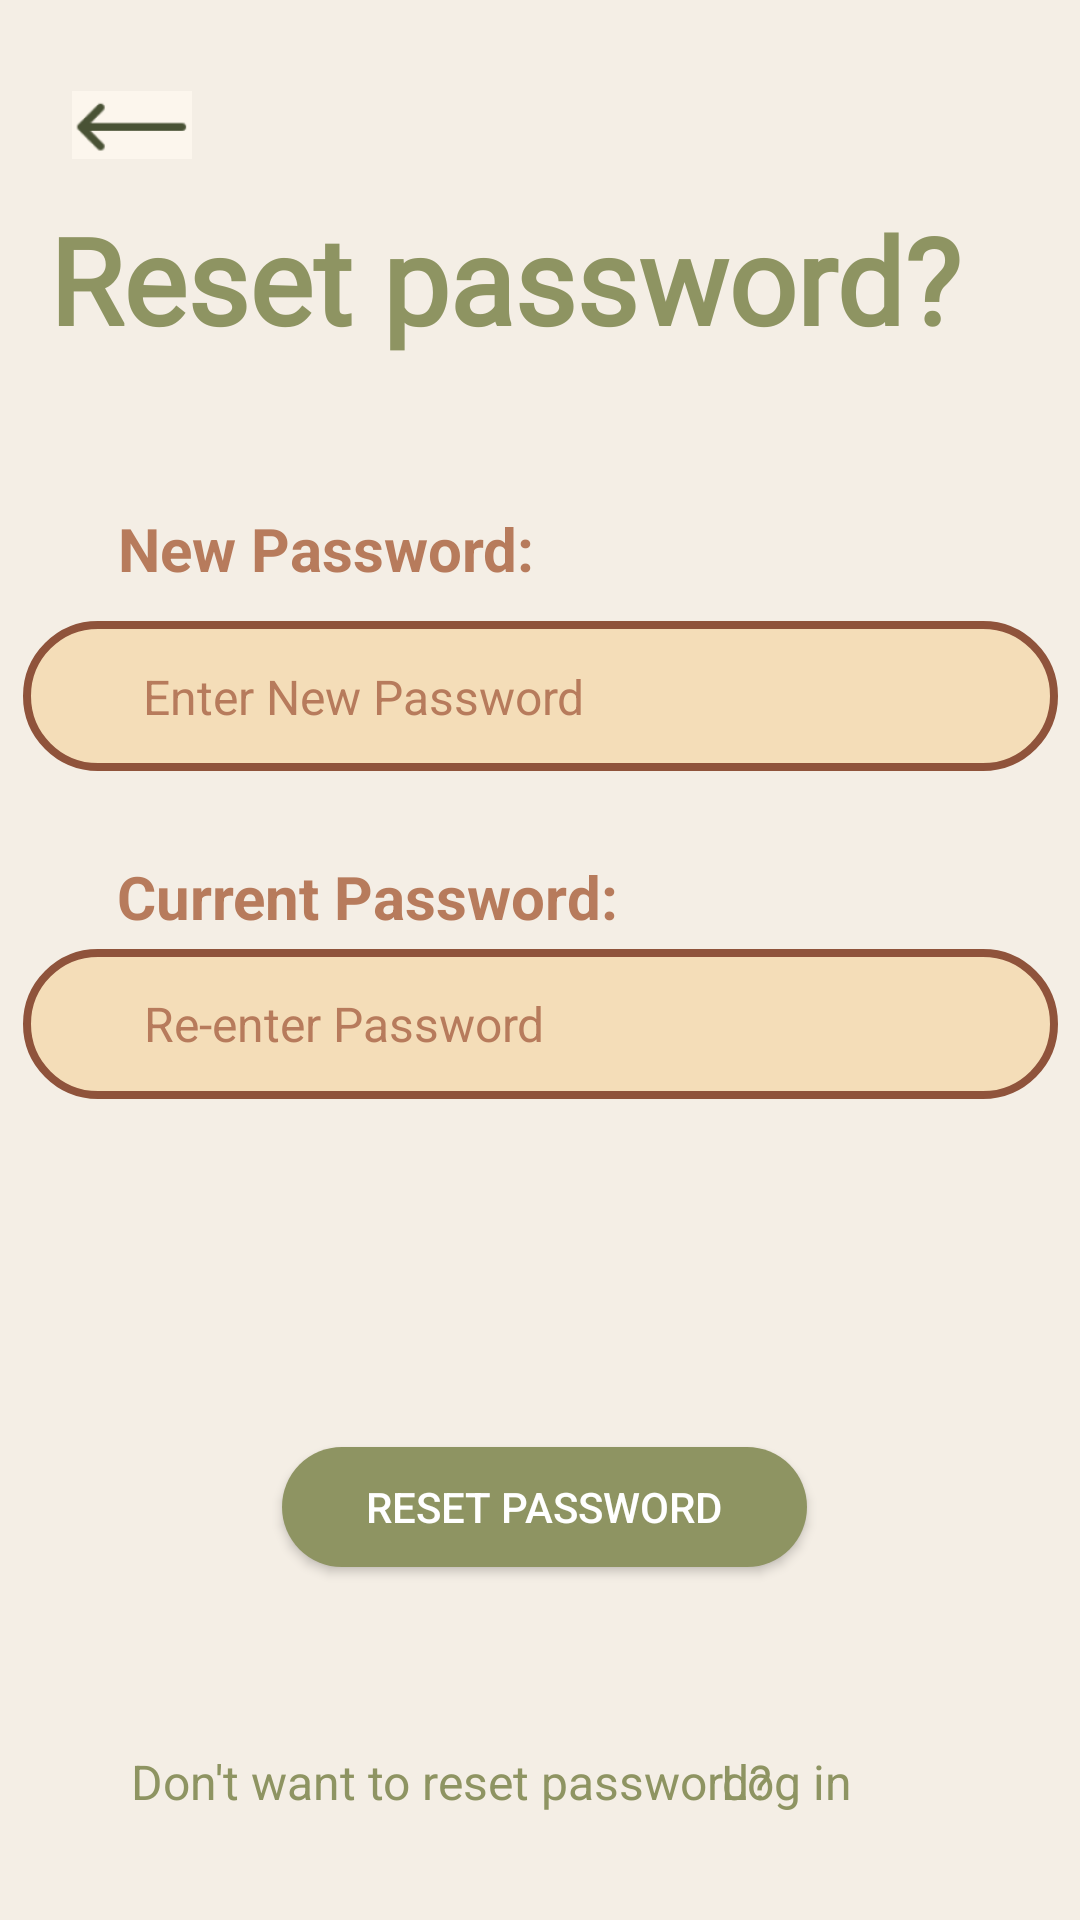

Icons on this 1080px×1920px Android screen, each with the point to tap as (x=x, y=y):
arrowback: (x=131, y=127)
